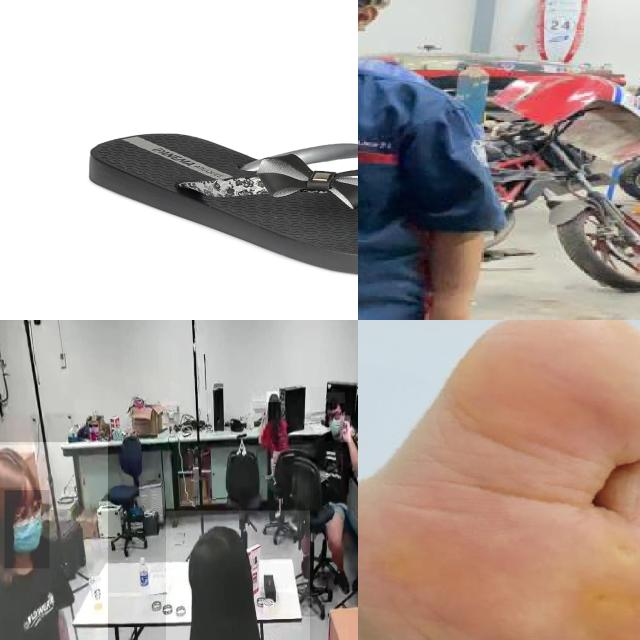Barefoots: (358, 320, 640, 640)
No_Ear-Protection: (358, 8, 378, 31)
Sandals: (85, 131, 358, 278)
face_mask: (5, 490, 50, 568), (325, 412, 343, 440)
hand_noglove: (428, 279, 472, 320), (341, 415, 351, 443)
head_nohelmet: (185, 523, 253, 575), (0, 444, 37, 488), (326, 392, 346, 404), (266, 391, 280, 403)
person: (0, 442, 108, 640), (165, 510, 310, 640), (309, 387, 358, 598)
